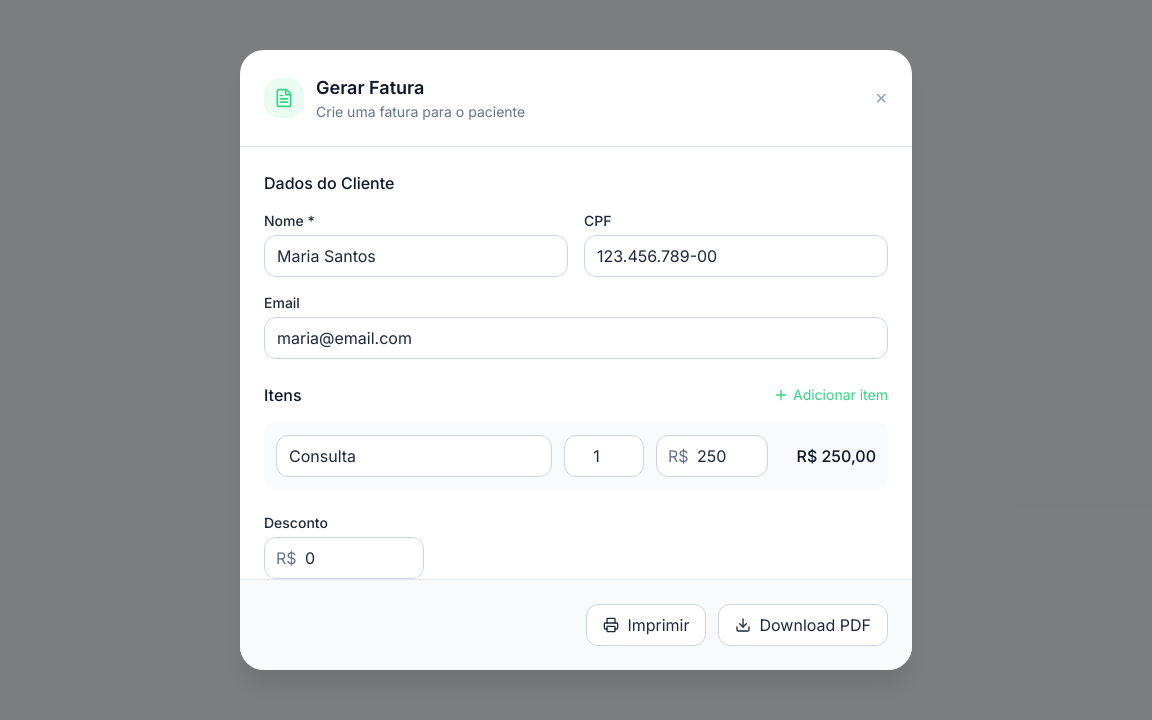
Test: InvoiceGenerator - Actions › download PDF action › should show generated state after generating
Click the button "Download PDF": (803, 625) [718,604,888,646]
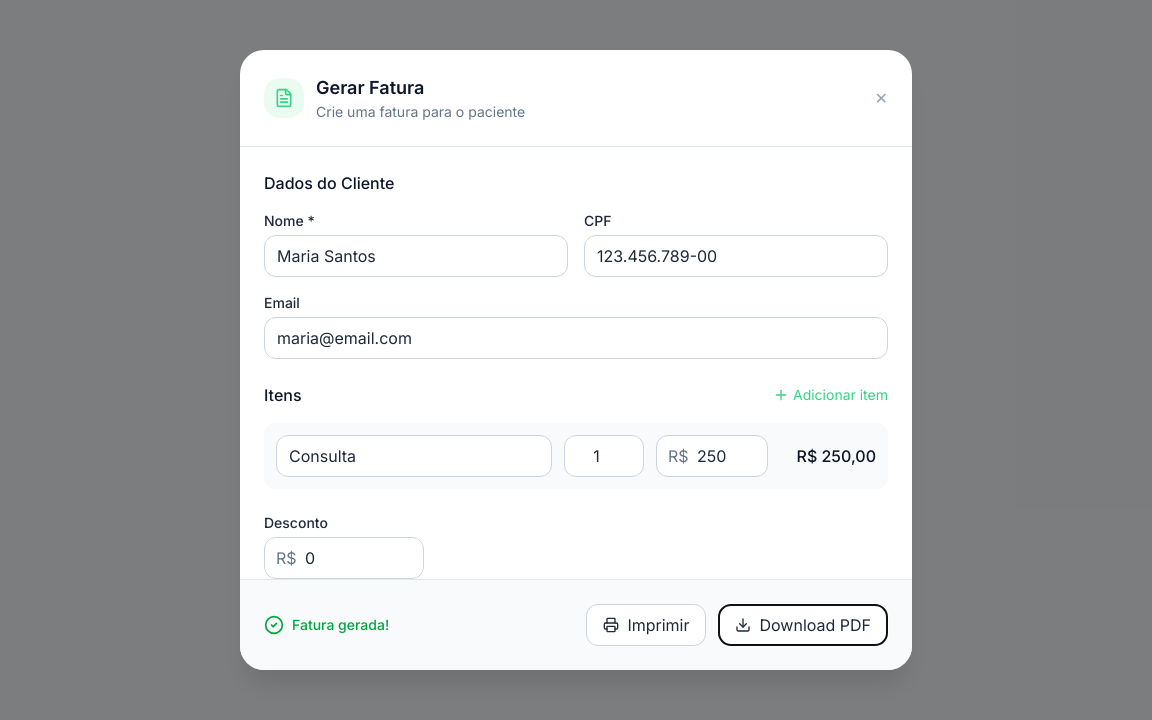
Result: the text "Fatura gerada!" is shown at [292,615,389,635]
